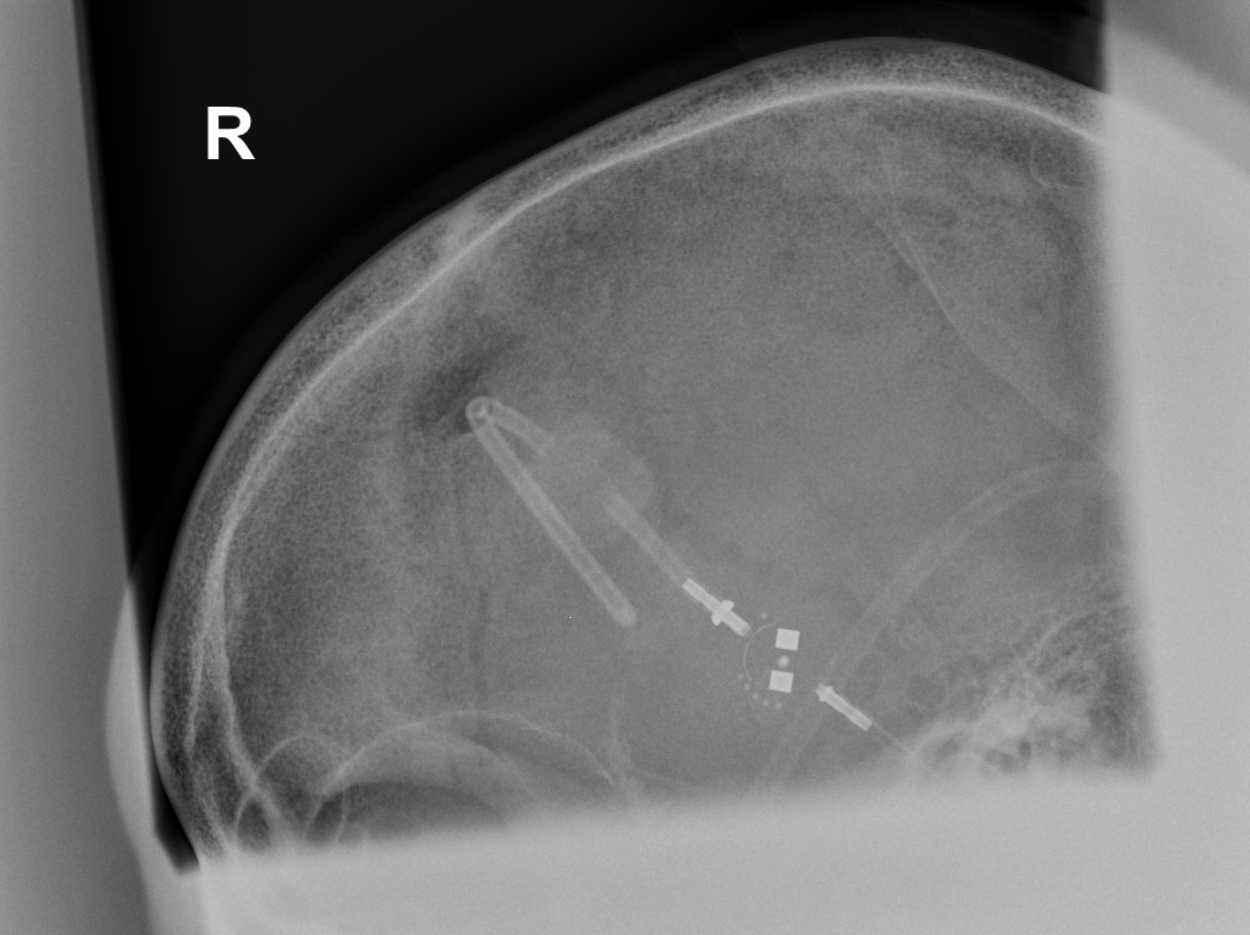Sophysa Polaris: (725, 600, 841, 724)
